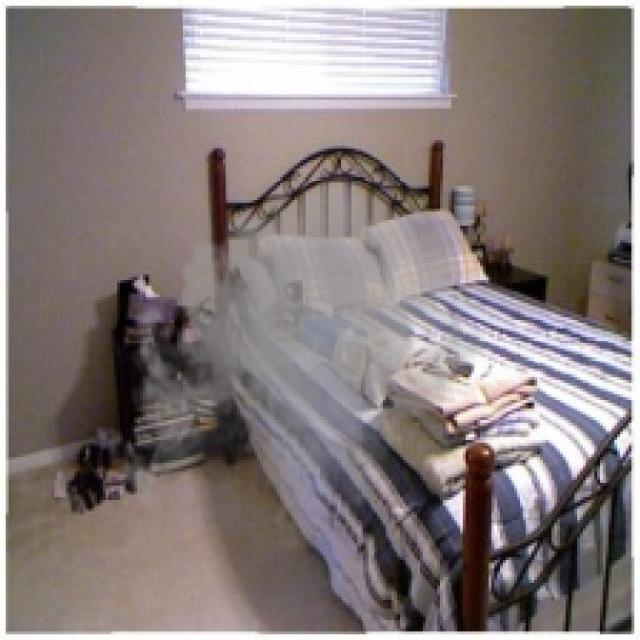Smoke: (111, 154, 488, 577)
